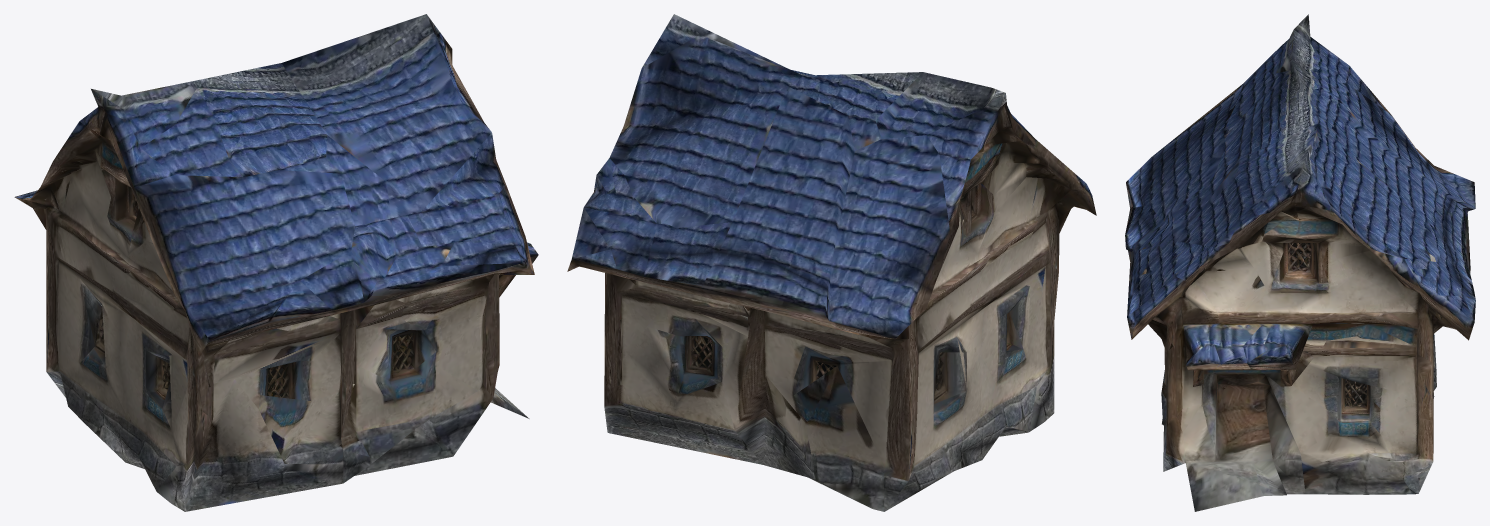
File: house_generic_b.glb
3 views of the same model, side by side, from view 1: azimuth 30°, elevation 25°; view 2: azimuth 150°, elevation 25°; view 3: azimuth 270°, elevation 25° (orthographic). The views are drawn at different scales.
Parts seen in each view (by area): view 1: tripo_node_ec88c3ae-fc66-42d7-b53e-eef88047a0cc; view 2: tripo_node_ec88c3ae-fc66-42d7-b53e-eef88047a0cc; view 3: tripo_node_ec88c3ae-fc66-42d7-b53e-eef88047a0cc.
Boxes of the visible parts, x1,y1,x2,y2 form: tripo_node_ec88c3ae-fc66-42d7-b53e-eef88047a0cc: (14,14,538,511); tripo_node_ec88c3ae-fc66-42d7-b53e-eef88047a0cc: (567,14,1096,511); tripo_node_ec88c3ae-fc66-42d7-b53e-eef88047a0cc: (1125,14,1475,511).
Size of the model in its own units: 0.976 by 0.9208 by 0.8719.
Materials: 1 (1 with a texture image).
